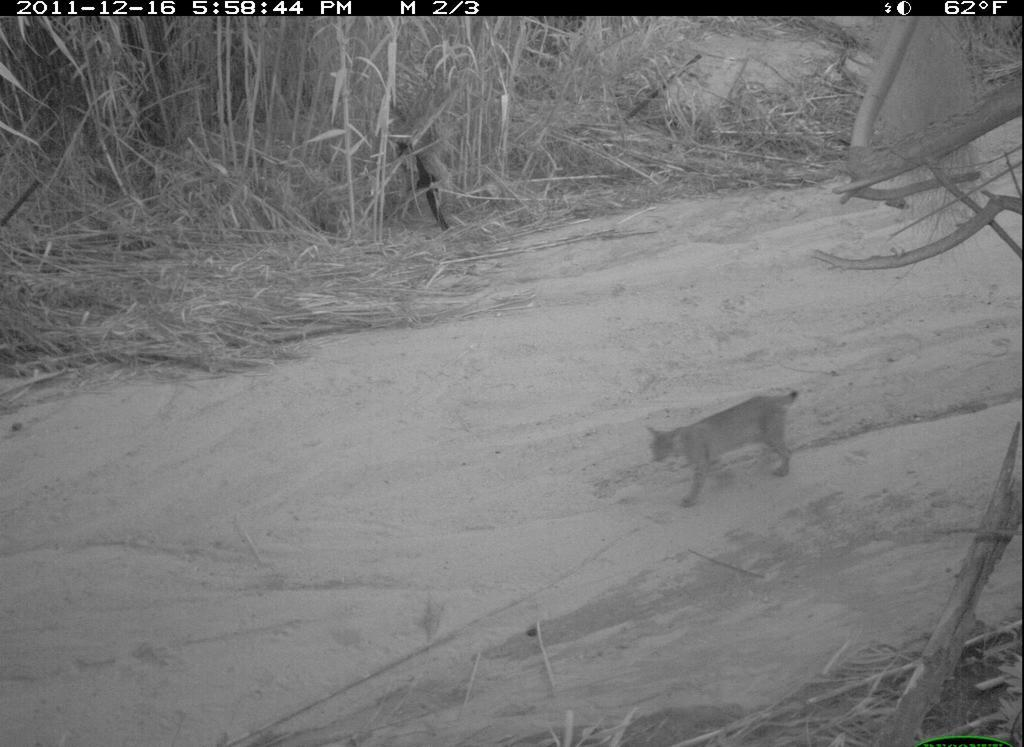bobcat: (637, 382, 811, 516)
